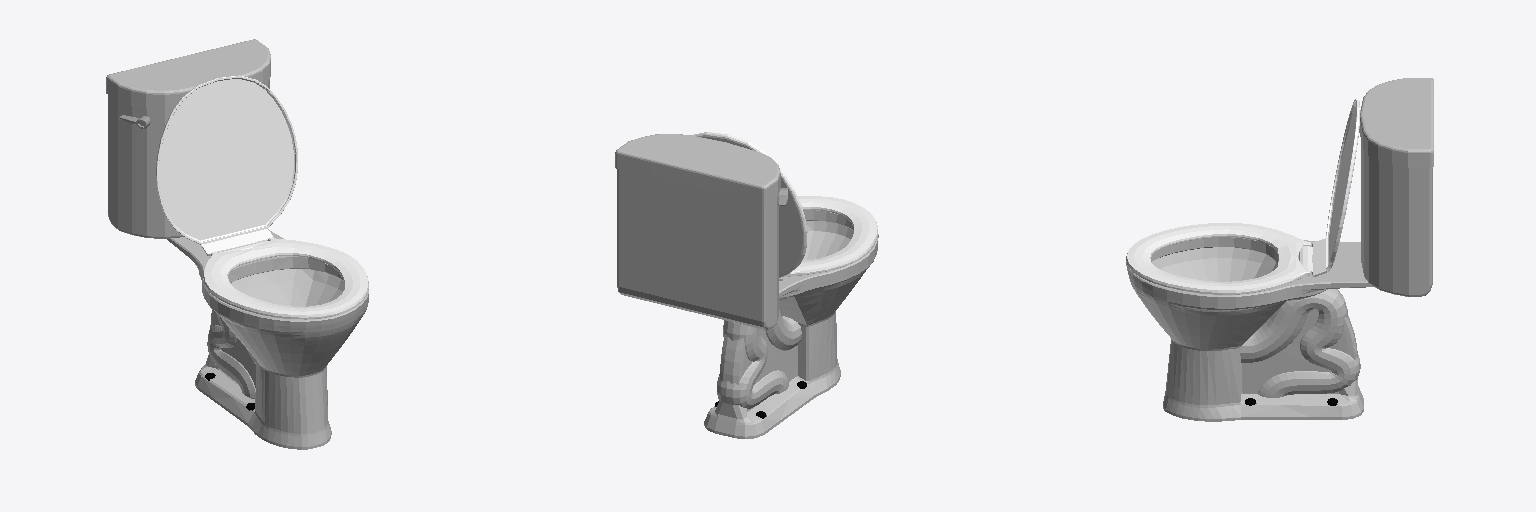
File: Toilet.obj
3 renders of one model, left to right at view 1: azimuth 30°, elevation 25°; view 2: azimuth 150°, elevation 25°; view 3: azimuth 270°, elevation 25°, orthographic.
Parts seen in each view (by area): view 1: Circle.004; view 2: Circle.004; view 3: Circle.004.
Part boxes in pixels (x1,y1,x2,y2): Circle.004: (106, 39, 368, 449); Circle.004: (615, 132, 878, 438); Circle.004: (1126, 78, 1433, 421).
Size of the model in its own units: 0.414 by 0.7662 by 0.7169.